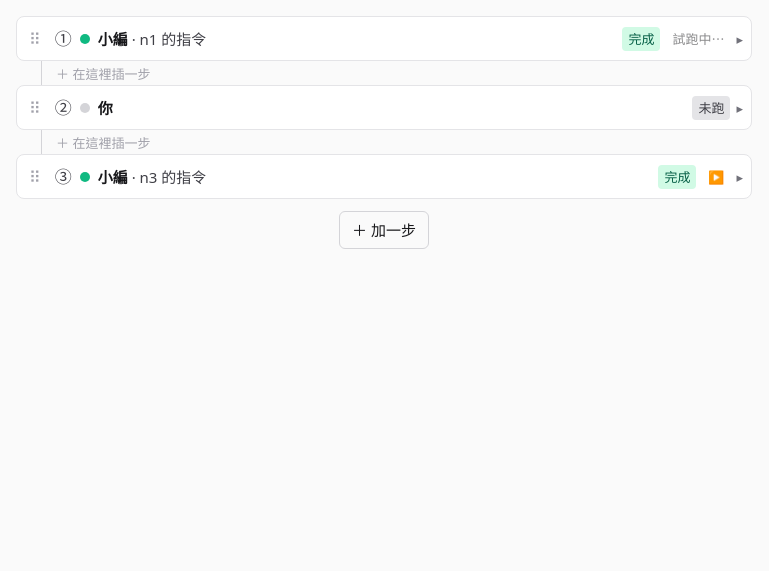
Test: 這一步的產出（就地） › 試跑的結果優先顯示、標「試跑」，正式跑的狀態燈不受影響
Expected: the button with test id "station-n1-try" is disabled, top-left (666, 26), bottom-right (730, 50)
Expected: the button with test id "station-n1-try" shows "試跑中", top-left (666, 26), bottom-right (730, 50)
Click the button with test id "station-n1-row": x=113, y=38 top-left (51, 23), bottom-right (616, 54)
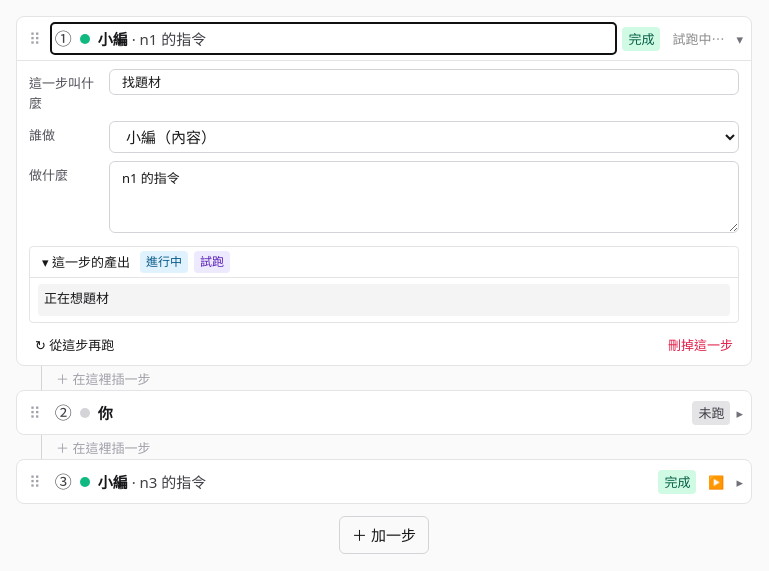
Expected: the text with test id "station-n1-status" reads "完成", top-left (628, 30), bottom-right (654, 48)
Expected: the text with test id "station-n1-chip" reads "進行中", top-left (146, 253), bottom-right (182, 270)
Expected: the text with test id "station-n1-stream" reads "正在想題材", top-left (44, 292), bottom-right (109, 307)
